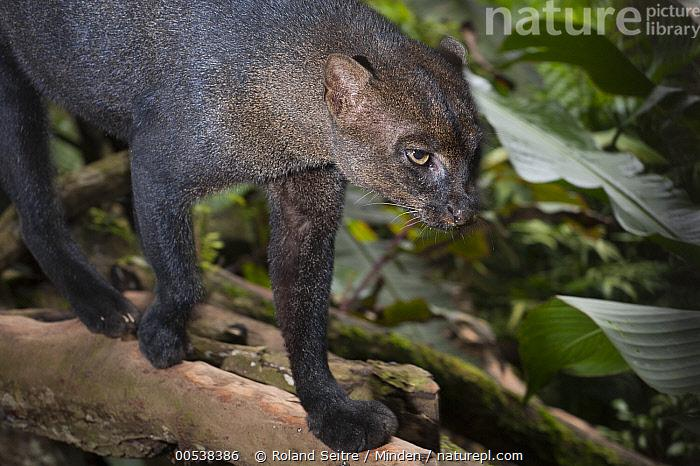Jaguarundi: (45, 5, 475, 454)
